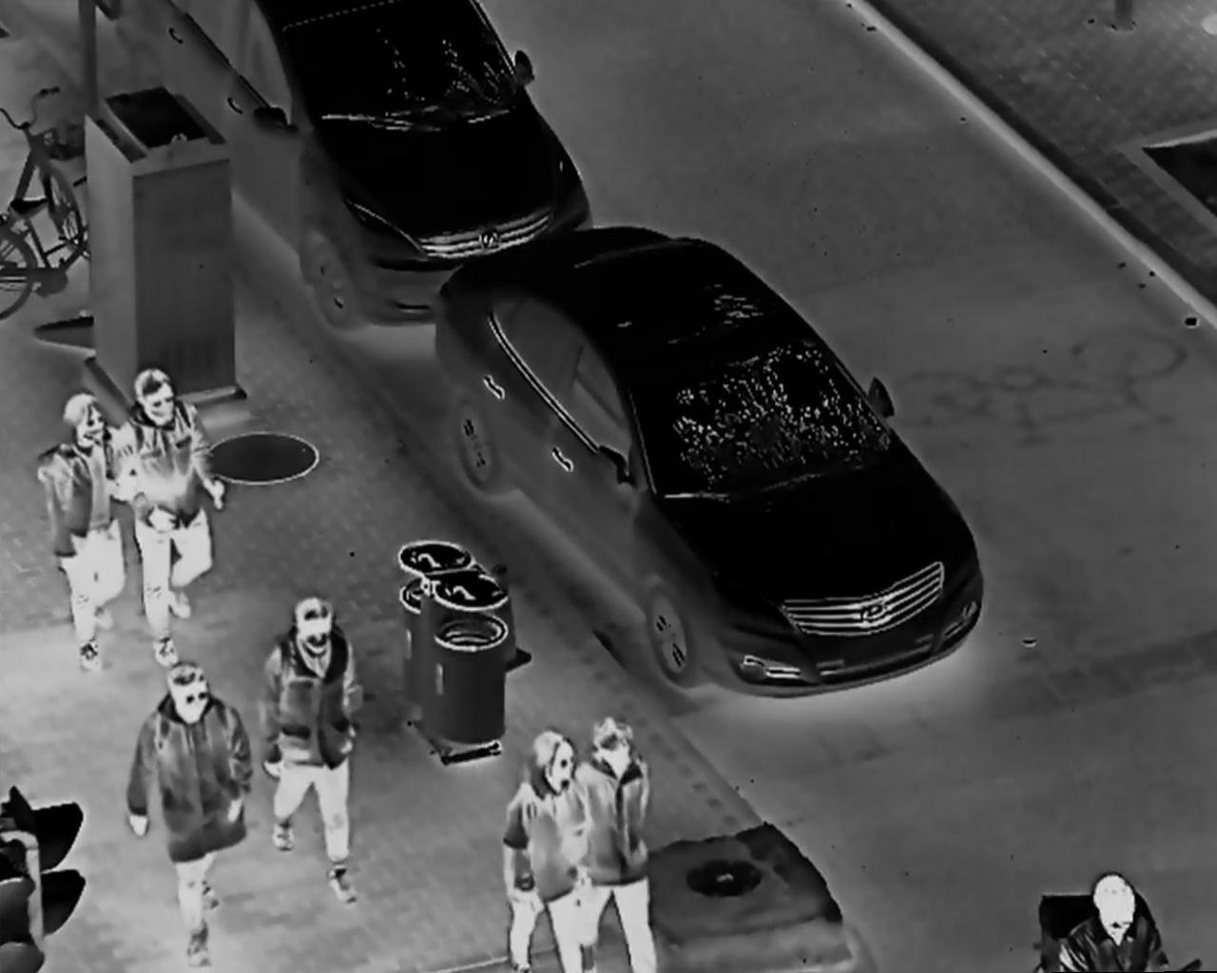person: (117, 658, 252, 963), (259, 598, 387, 909), (113, 368, 232, 666), (31, 388, 135, 668), (504, 720, 592, 973), (581, 718, 661, 973), (1058, 868, 1167, 973)
